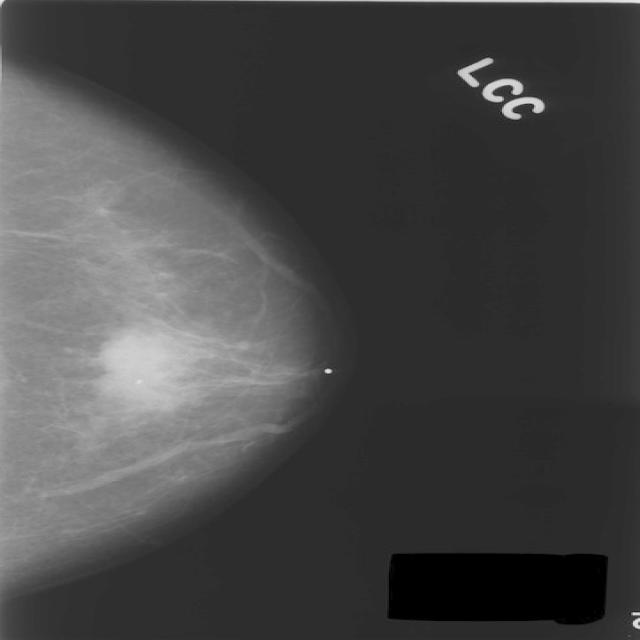tumour: (92, 325, 201, 406)
